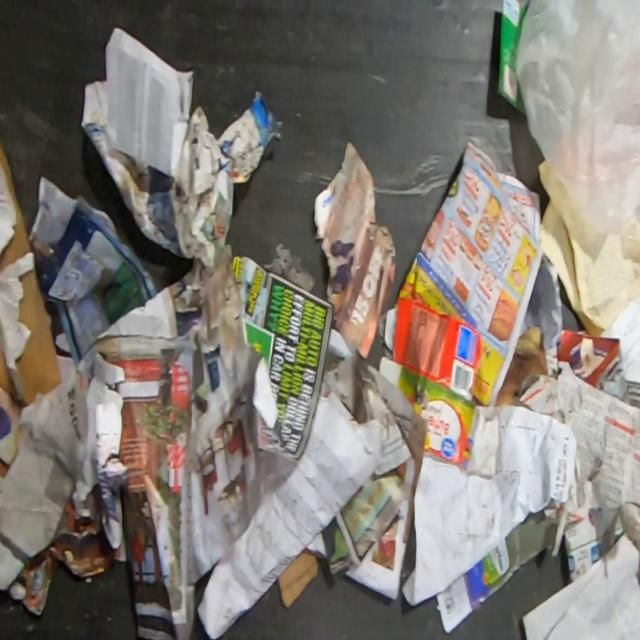cardboard: (0, 141, 64, 410), (277, 547, 320, 608)
soft_plastic: (515, 0, 640, 245)
